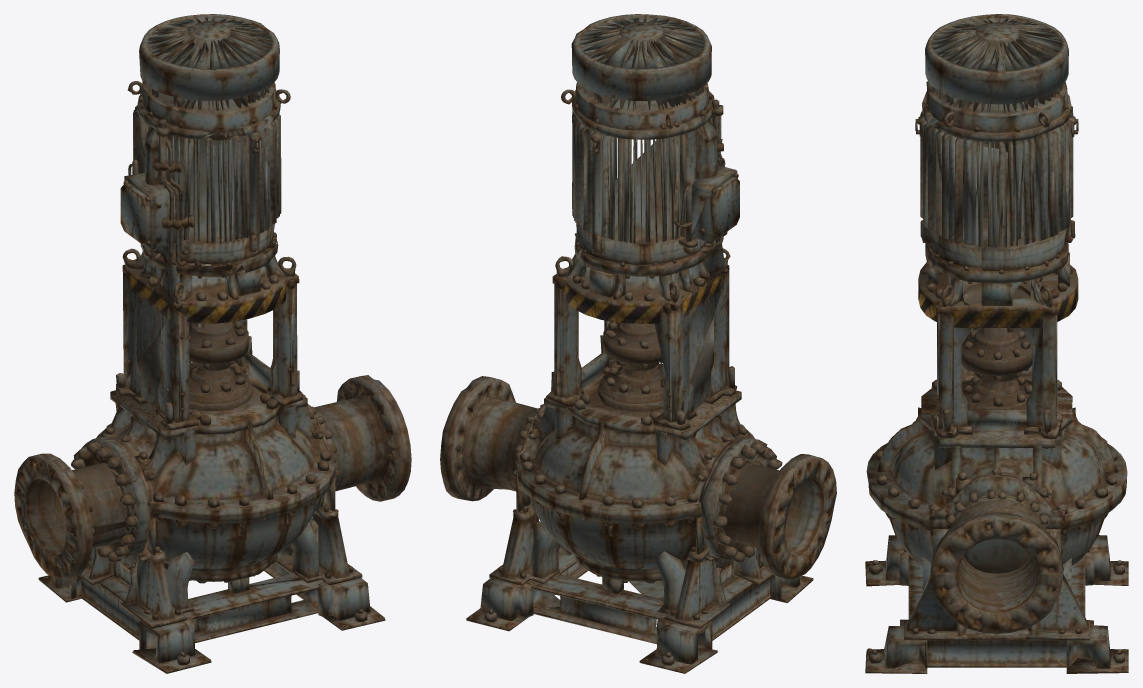
File: reactor-coolant-pump-vertical.glb
3 renders of one model, left to right at view 1: azimuth 30°, elevation 25°; view 2: azimuth 150°, elevation 25°; view 3: azimuth 270°, elevation 25°, orthographic. The views are drawn at different scales.
Visible parts, largest first — view 1: reactor-coolant-pump-vertical; view 2: reactor-coolant-pump-vertical; view 3: reactor-coolant-pump-vertical.
Part boxes in pixels (left/top/right/bottom): reactor-coolant-pump-vertical: left=14, top=14, right=411, bottom=673; reactor-coolant-pump-vertical: left=440, top=14, right=836, bottom=673; reactor-coolant-pump-vertical: left=865, top=14, right=1128, bottom=673.
Size of the model in its own units: 4.27 by 7 by 2.85.
Materials: 1 (1 with a texture image).
